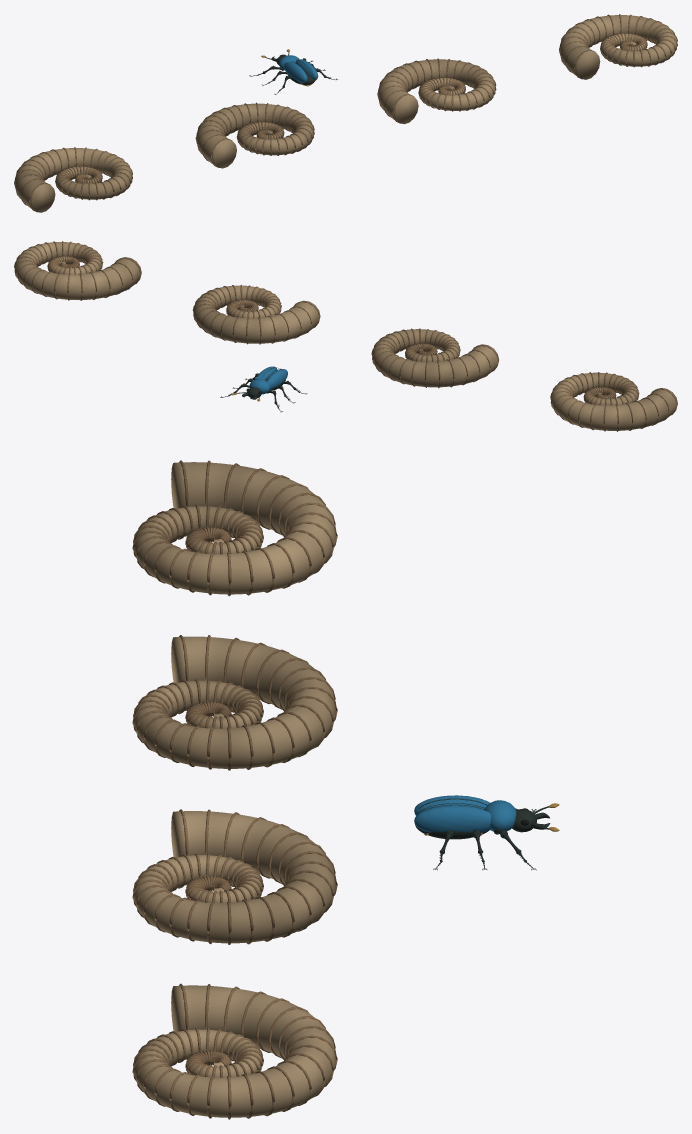
3 views of the same model, one above another, from view 1: azimuth 30°, elevation 25°; view 2: azimuth 150°, elevation 25°; view 3: azimuth 270°, elevation 25° (orthographic). The views are drawn at different scales.
Parts seen in each view (by area): view 1: L01_SPEC_Fossil ridge_export, L01_SPEC_Fossil umber_export, L01_SPEC_Iridescent blue_export, L01_SPEC_Chitin_export; view 2: L01_SPEC_Fossil ridge_export, L01_SPEC_Fossil umber_export, L01_SPEC_Iridescent blue_export, L01_SPEC_Chitin_export; view 3: L01_SPEC_Fossil ridge_export, L01_SPEC_Fossil umber_export, L01_SPEC_Iridescent blue_export, L01_SPEC_Chitin_export.
Part boxes in pixels (left/top/right/bottom): L01_SPEC_Fossil ridge_export: left=14, top=15, right=677, bottom=212; L01_SPEC_Fossil umber_export: left=14, top=14, right=677, bottom=212; L01_SPEC_Iridescent blue_export: left=279, top=55, right=318, bottom=83; L01_SPEC_Chitin_export: left=249, top=51, right=338, bottom=94; L01_SPEC_Fossil ridge_export: left=14, top=242, right=677, bottom=430; L01_SPEC_Fossil umber_export: left=14, top=241, right=677, bottom=431; L01_SPEC_Iridescent blue_export: left=249, top=366, right=287, bottom=394; L01_SPEC_Chitin_export: left=220, top=367, right=307, bottom=412; L01_SPEC_Fossil ridge_export: left=134, top=462, right=336, bottom=1117; L01_SPEC_Fossil umber_export: left=132, top=460, right=337, bottom=1119; L01_SPEC_Iridescent blue_export: left=414, top=795, right=516, bottom=832; L01_SPEC_Chitin_export: left=415, top=798, right=550, bottom=870.
Size of the model in its own units: 3.42 by 0.1571 by 0.9833.
